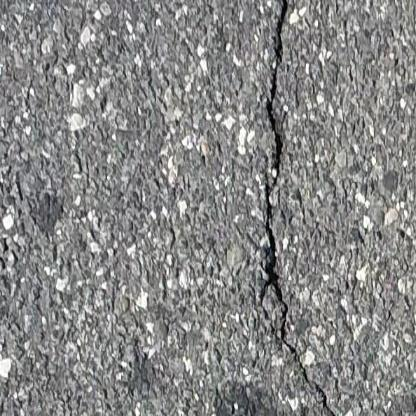Cracks: (256, 0, 351, 416)
